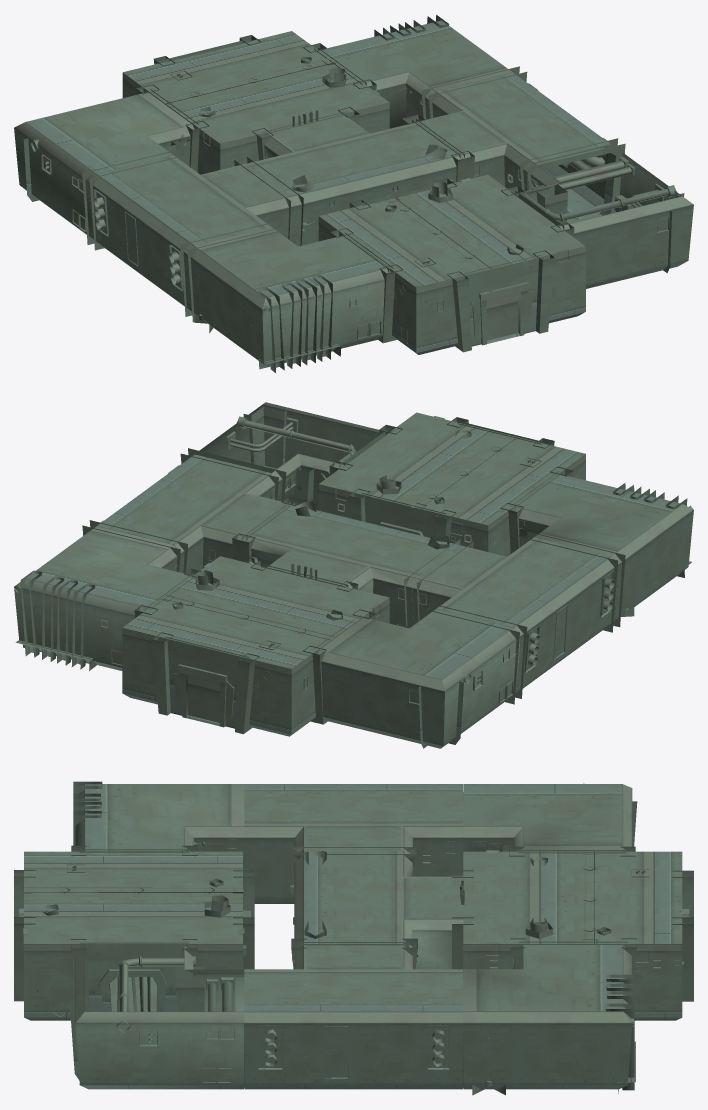
File: Combined_Mesh_root_scene__21_87b8b529__zombies2_diffuse_09_d56e2e54_c1f257.obj
3 views of the same model, one above another, from view 1: azimuth 30°, elevation 25°; view 2: azimuth 150°, elevation 25°; view 3: azimuth 270°, elevation 25° (orthographic). The views are drawn at different scales.
Size of the model in its own units: 52.07 by 9.64 by 62.1.
147 materials, 147 textured.
